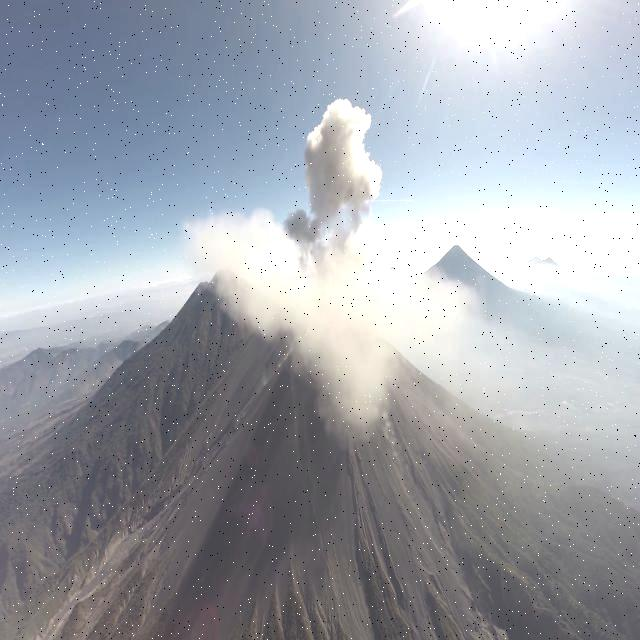Plume: (180, 203, 480, 450), (299, 92, 387, 236)
